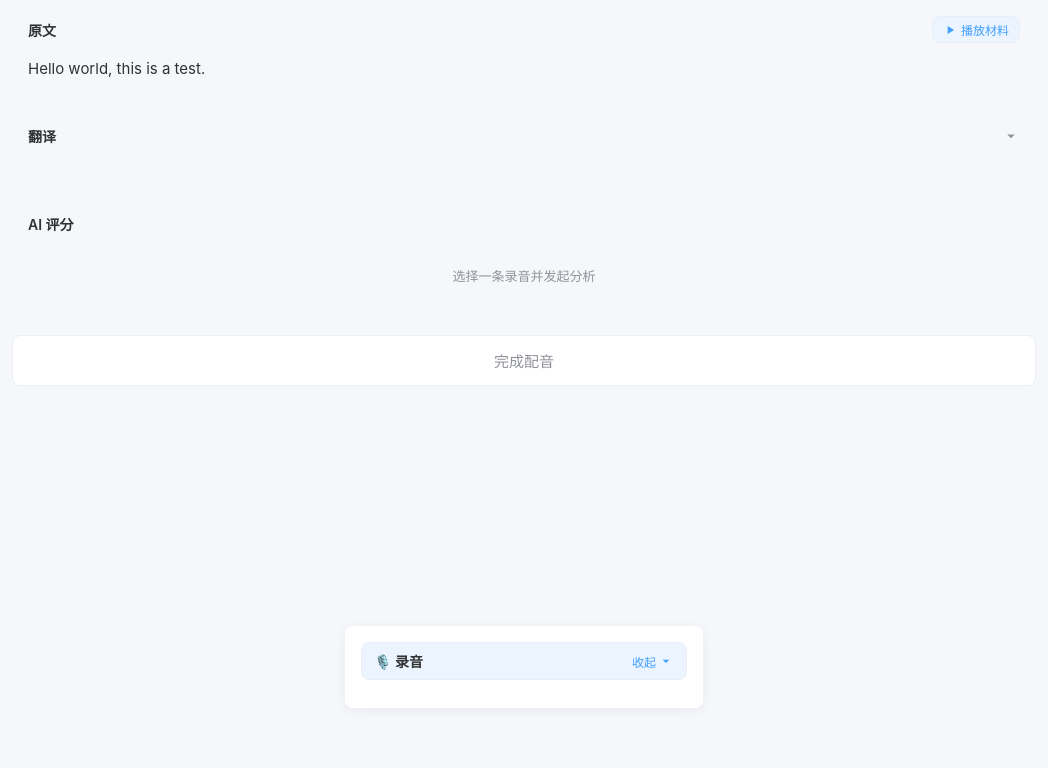
it: DubbingPractice 配音练习组件 › 点击翻译标题展开翻译内容
Click the element with class "card__header--clickable" at (42, 136), box [28,126,1020,146]
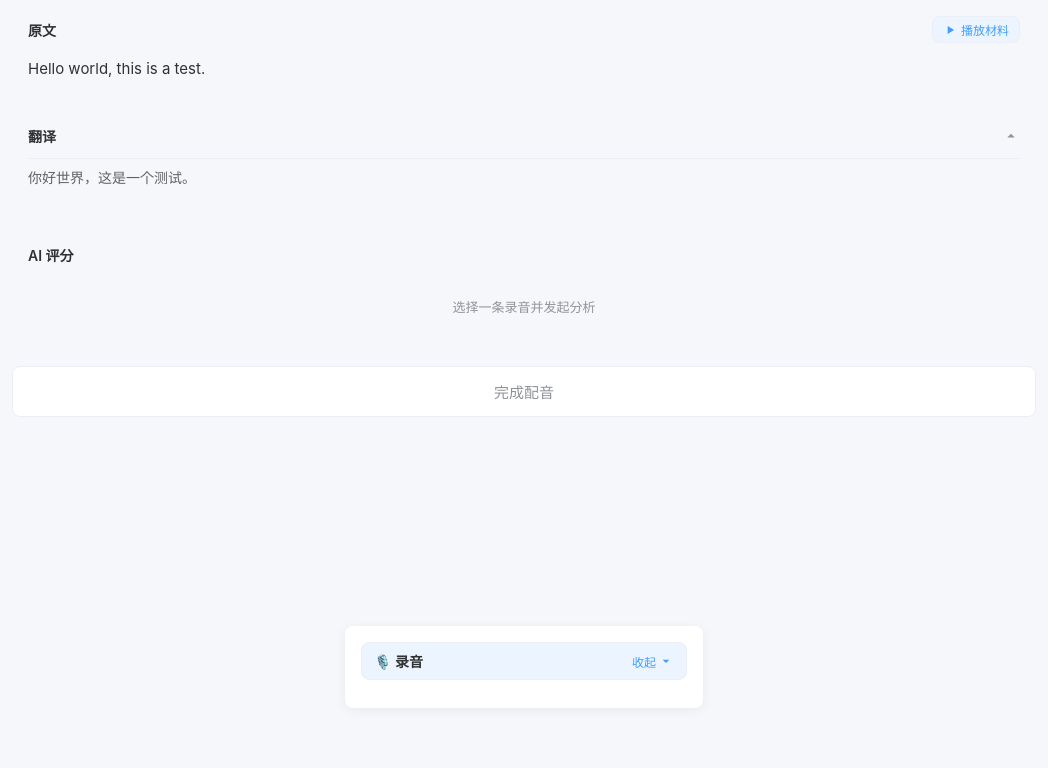
Now the text "你好世界，这是一个测试。" is shown, box [28,158,1020,189]
Now the text with class "translation-content" shows "你好世界", box [28,169,196,186]
